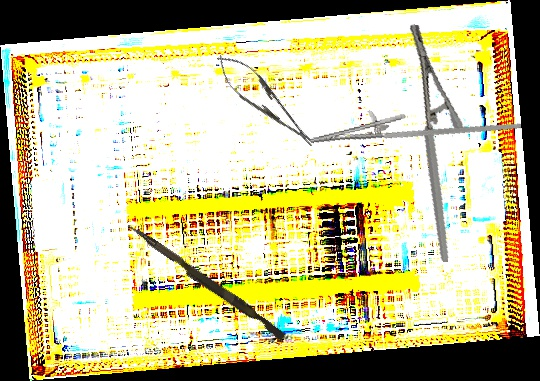Needle Holder: (363, 23, 495, 263), (307, 82, 522, 169), (208, 46, 323, 156)
Pusher: (122, 222, 289, 341)
